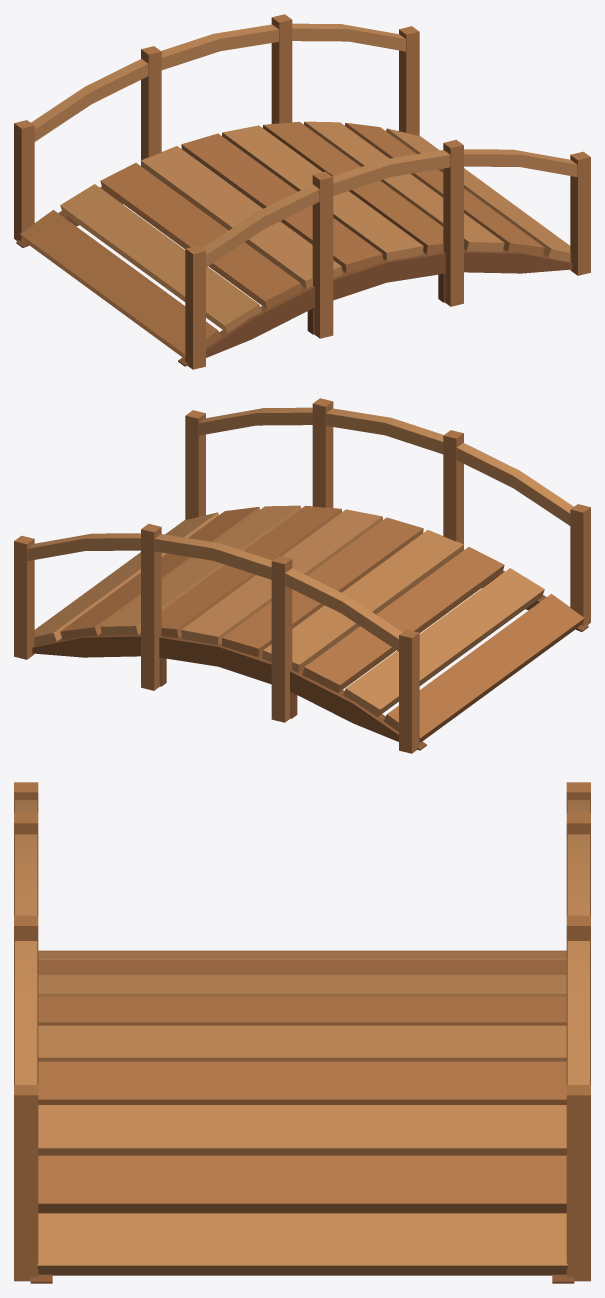
Rendered from bridge_wood.glb.
3 views of the same model, one above another, from view 1: azimuth 30°, elevation 25°; view 2: azimuth 150°, elevation 25°; view 3: azimuth 270°, elevation 25° (orthographic). The views are drawn at different scales.
Parts seen in each view (by area): view 1: bridge_wood; view 2: bridge_wood; view 3: bridge_wood.
Part boxes in pixels (bbox=[...]): bridge_wood: bbox=[14, 14, 590, 369]; bridge_wood: bbox=[14, 398, 590, 753]; bridge_wood: bbox=[14, 782, 590, 1283].
Bounding box in the file's own units: 3.4 × 1.27 × 2.61.
1 material, 1 textured.
